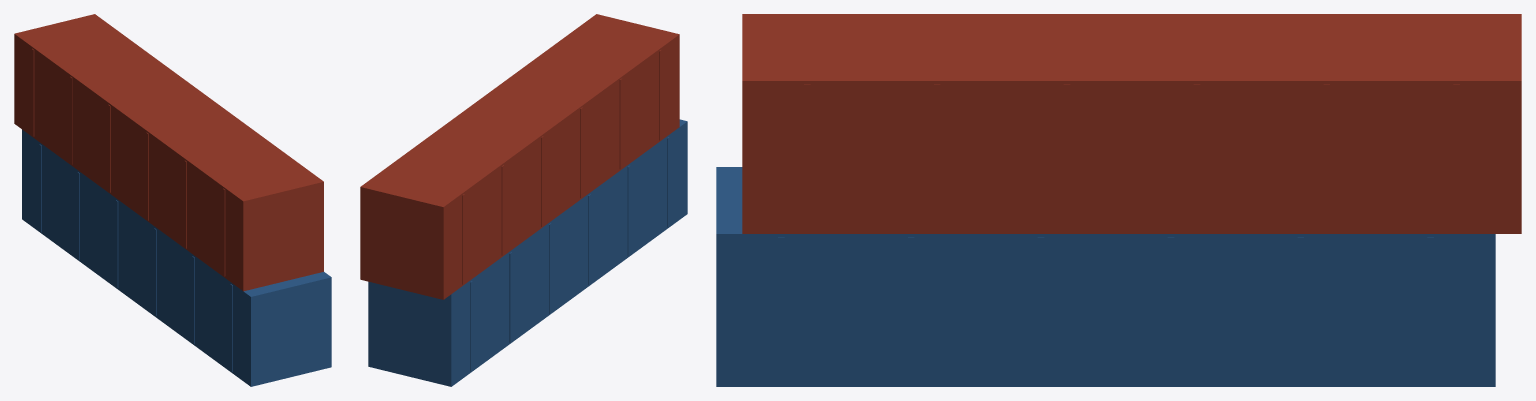
File: ContainerStack.fbx
3 renders of one model, left to right at view 1: azimuth 30°, elevation 25°; view 2: azimuth 150°, elevation 25°; view 3: azimuth 270°, elevation 25°, orthographic. The views are drawn at different scales.
Parts seen in each view (by area): view 1: Box1, Box0, Rib0_3, Rib1_5, Rib1_0; view 2: Box1, Box0, Rib0_1, Rib1_1, Rib1_4; view 3: Box1, Box0, Rib0_2, Rib0_3, Rib1_2, Rib1_3, Rib0_0, Rib0_1, Rib0_4, Rib0_5, Rib1_0, Rib1_1 (+2 smaller).
Boxes of the visible parts, box(x1,y1,x2,y2) form: Box1: box(14, 14, 323, 291); Box0: box(22, 129, 331, 386); Rib0_3: box(115, 200, 118, 287); Rib1_5: box(31, 48, 34, 136); Rib1_0: box(222, 188, 225, 276); Box1: box(360, 14, 679, 299); Box0: box(368, 119, 687, 386); Rib0_1: box(627, 165, 630, 256); Rib1_1: box(619, 78, 622, 169); Rib1_4: box(501, 165, 504, 255); Box1: box(742, 14, 1521, 233); Box0: box(716, 167, 1495, 386); Rib0_2: box(1037, 237, 1044, 384); Rib0_3: box(1167, 237, 1174, 384); Rib1_2: box(1063, 84, 1070, 231); Rib1_3: box(1193, 84, 1200, 231); Rib0_0: box(778, 237, 784, 384); Rib0_1: box(908, 237, 914, 384); Rib0_4: box(1297, 237, 1303, 384); Rib0_5: box(1427, 237, 1433, 384); Rib1_0: box(804, 84, 810, 231); Rib1_1: box(934, 84, 940, 231).
Size of the model in its own units: 248 by 1240 by 520.
